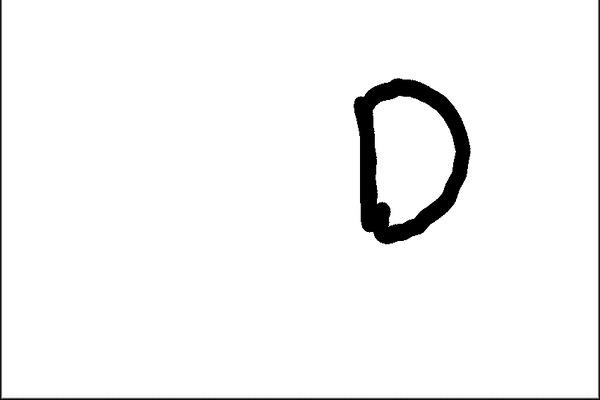D: (345, 69, 474, 254)
